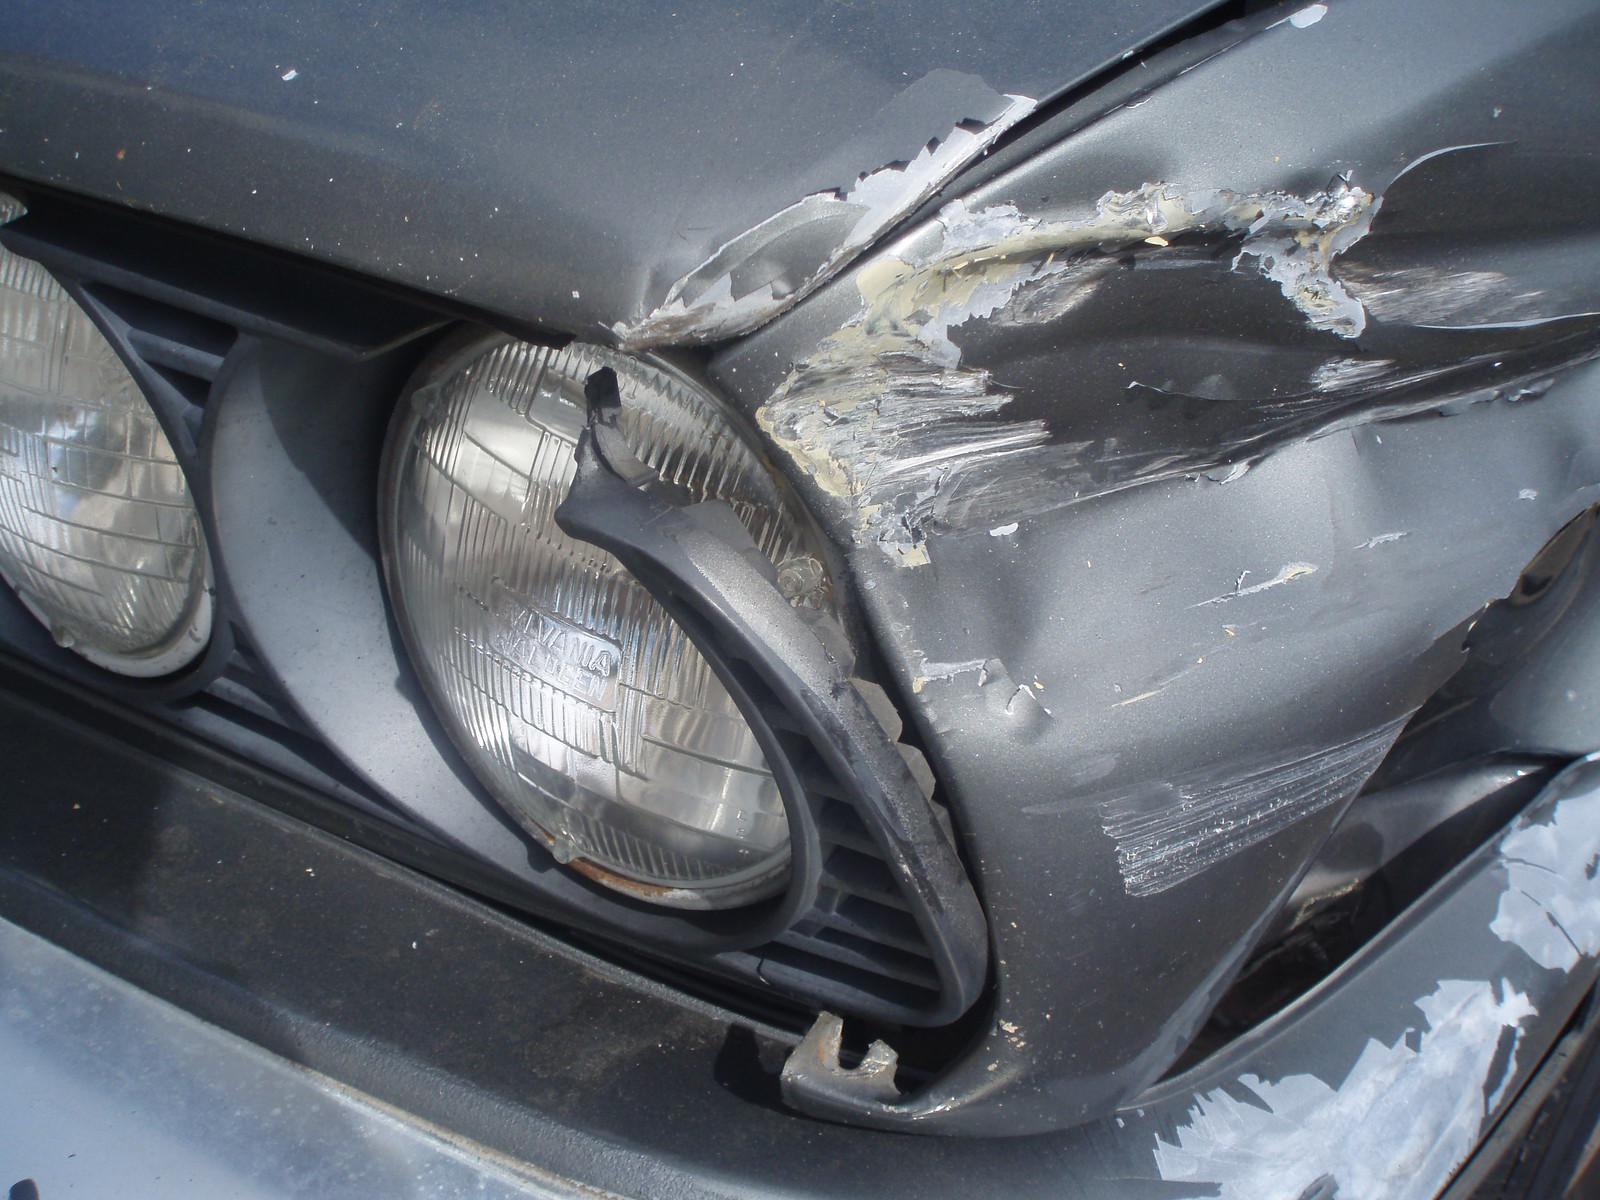Headlight-Damage: (431, 211, 1077, 1199)
fender-dent: (1117, 0, 1599, 1024)
